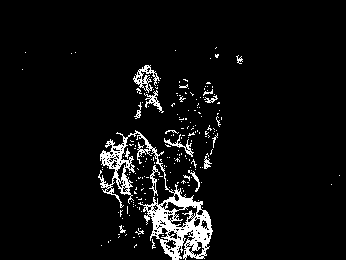person: (156, 175, 209, 260), (117, 133, 158, 222), (99, 132, 129, 234), (158, 129, 196, 197), (201, 80, 219, 167), (136, 66, 162, 118), (174, 78, 198, 128)
